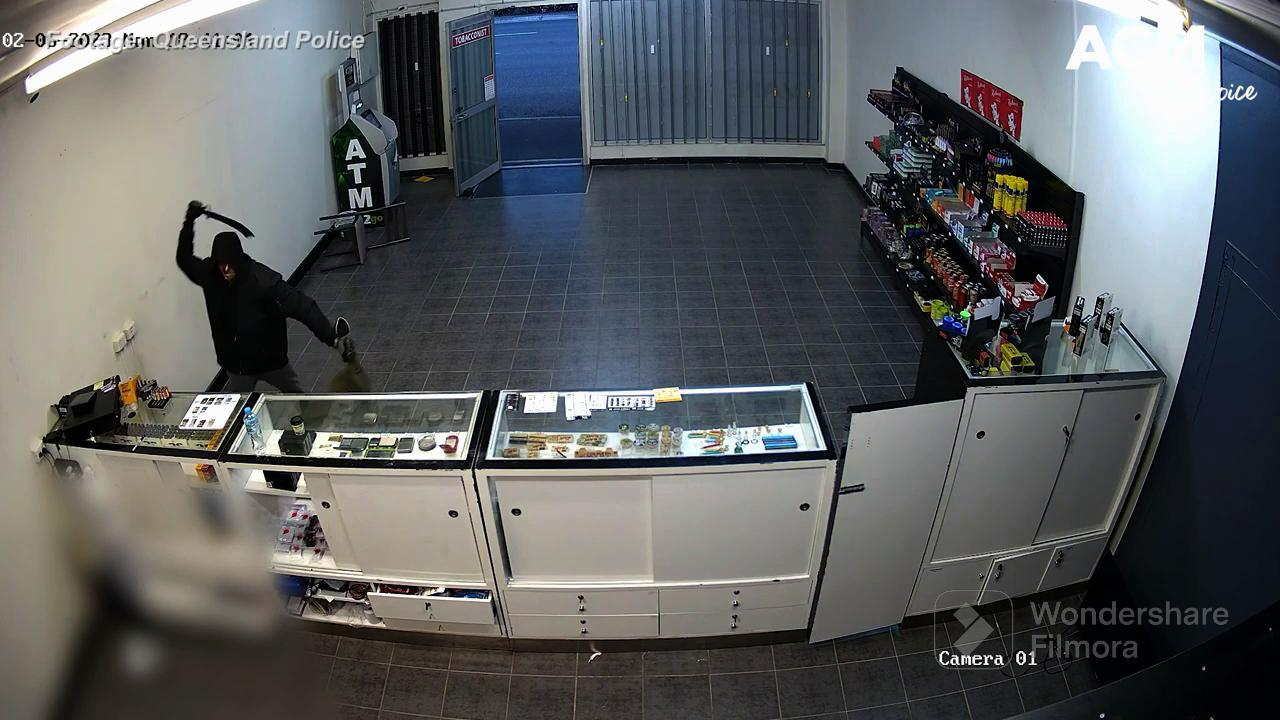melee: (188, 198, 258, 242)
